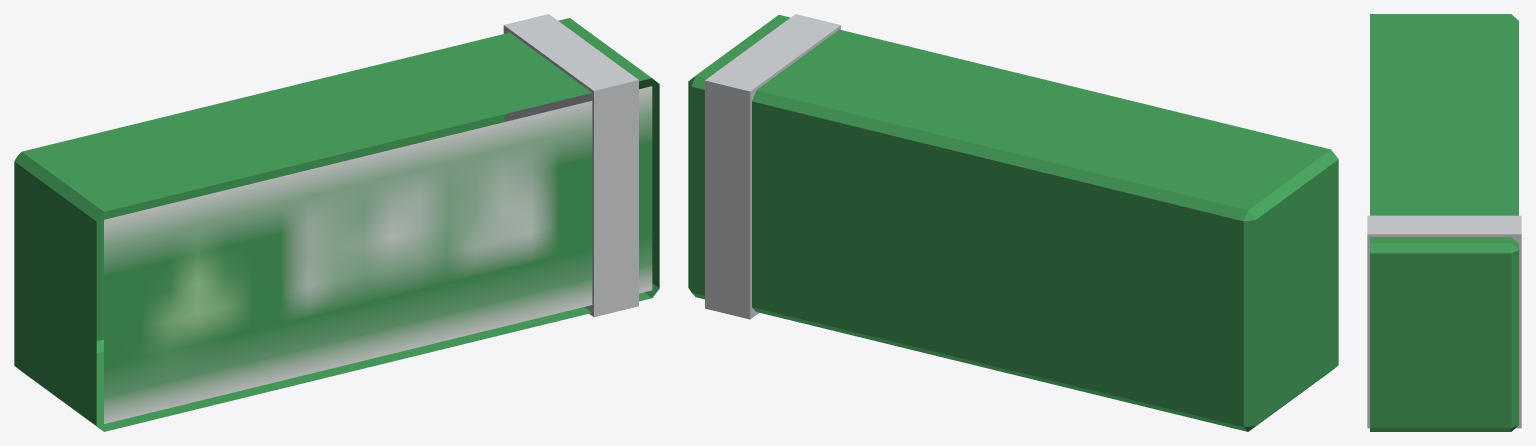
The model's file is SC_Prod_Gum_Pack.gltf.
3 views of the same model, side by side, from view 1: azimuth 30°, elevation 25°; view 2: azimuth 150°, elevation 25°; view 3: azimuth 270°, elevation 25° (orthographic). The views are drawn at different scales.
Parts seen in each view (by area): view 1: SC_Prod_Gum_Pack; view 2: SC_Prod_Gum_Pack; view 3: SC_Prod_Gum_Pack.
Part boxes in pixels (left/top/right/bottom): SC_Prod_Gum_Pack: left=14, top=14, right=659, bottom=431; SC_Prod_Gum_Pack: left=688, top=14, right=1338, bottom=431; SC_Prod_Gum_Pack: left=1367, top=14, right=1521, bottom=431.
Bounding box in the file's own units: 0.075 × 0.0288 × 0.0208.
2 materials, 2 textured.
